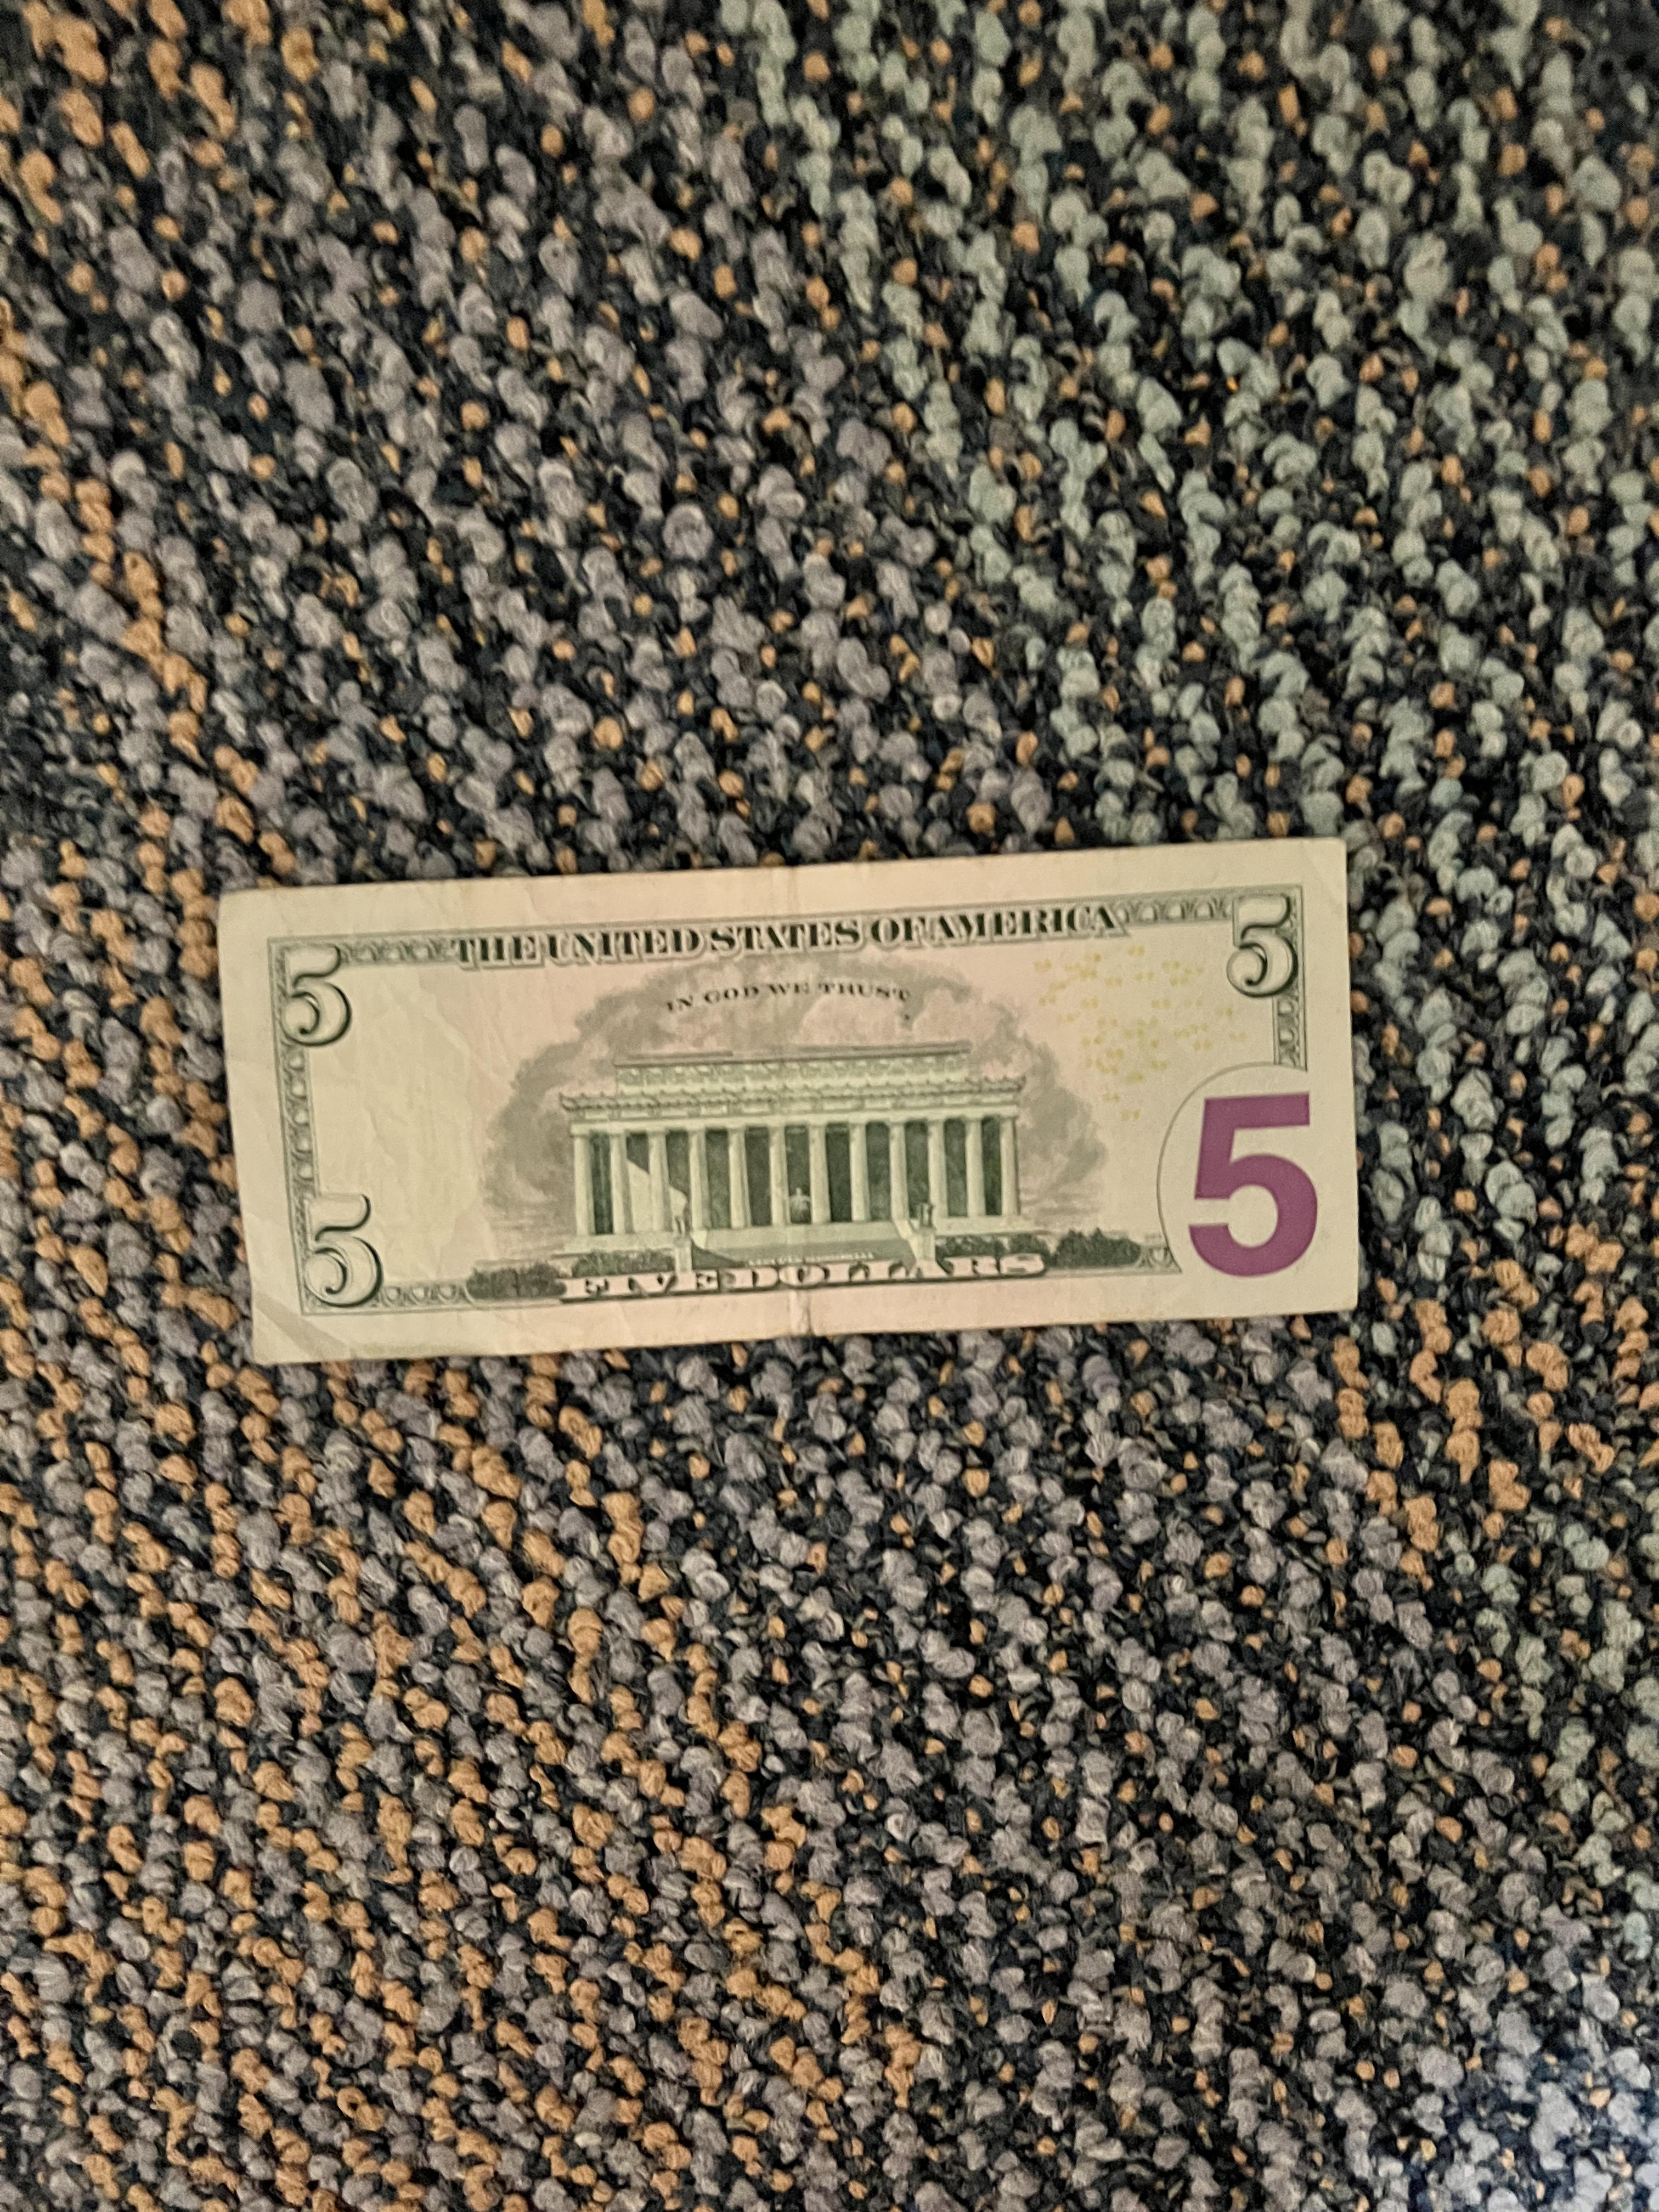FiveBill: (195, 824, 1363, 1367)
